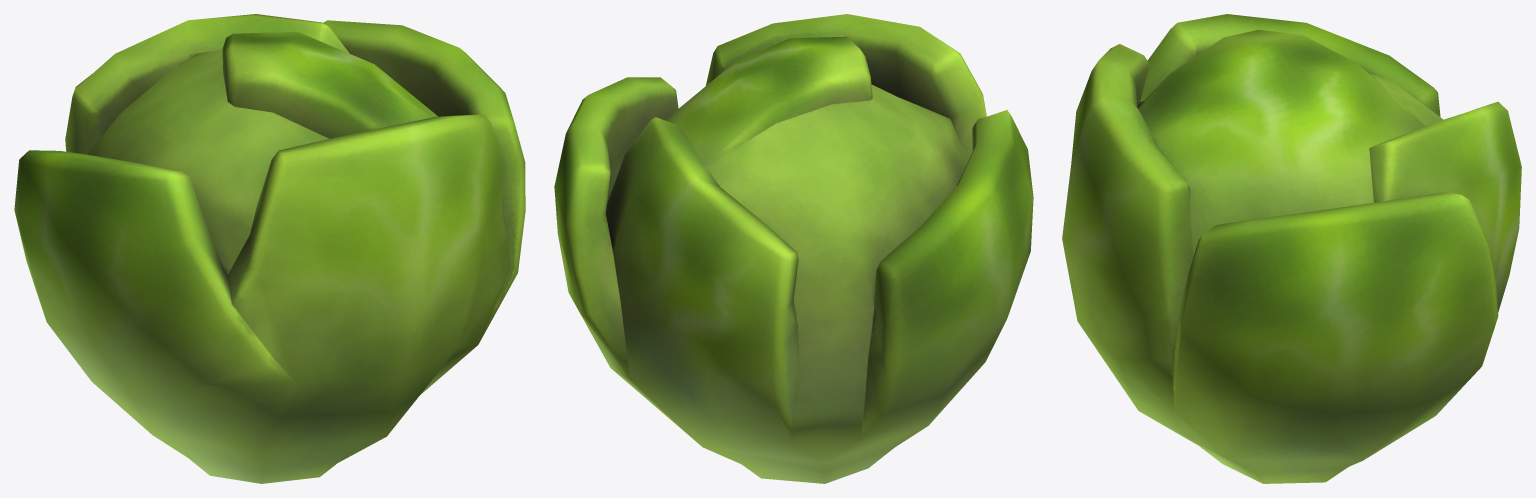
File: t_ingredients_lettuce_01_d.fbx
3 renders of one model, left to right at view 1: azimuth 30°, elevation 25°; view 2: azimuth 150°, elevation 25°; view 3: azimuth 270°, elevation 25°, orthographic. The views are drawn at different scales.
Visible parts, largest first — view 1: Lettuce_Whole; view 2: Lettuce_Whole; view 3: Lettuce_Whole.
Part boxes in pixels (x1,y1,x2,y2): Lettuce_Whole: [14, 14, 525, 483]; Lettuce_Whole: [554, 14, 1033, 483]; Lettuce_Whole: [1062, 14, 1521, 483].
Bounding box in the file's own units: 85.62 × 79.28 × 78.94.
1 material, 1 textured.
